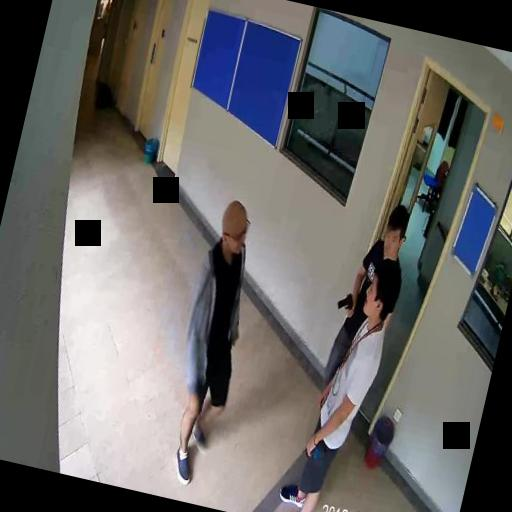Handgun: (334, 288, 356, 316)
